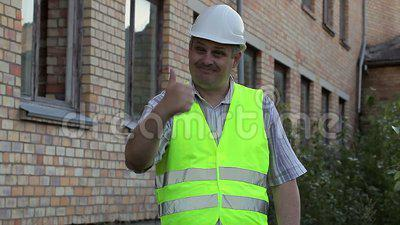helmet: (190, 3, 246, 52)
